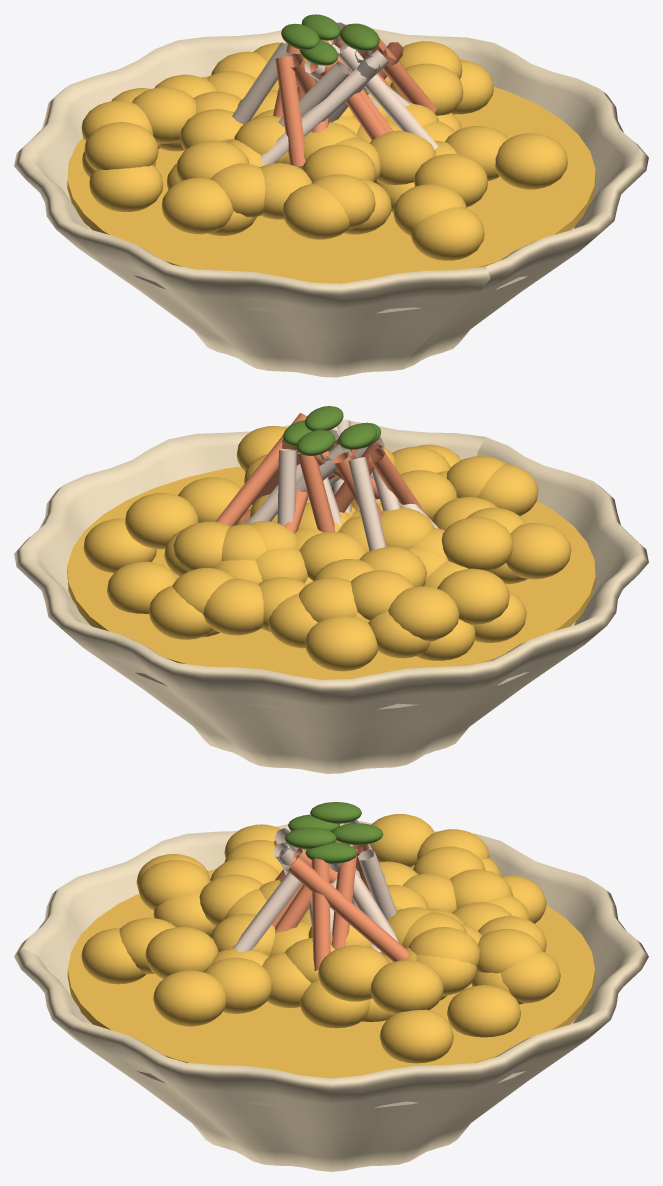
The model's file is 14-crab-rice.glb.
3 renders of one model, top to bottom at view 1: azimuth 30°, elevation 25°; view 2: azimuth 150°, elevation 25°; view 3: azimuth 270°, elevation 25°, orthographic.
Parts seen in each view (by area): view 1: 게살 달걀 덮밥; view 2: 게살 달걀 덮밥; view 3: 게살 달걀 덮밥.
Part boxes in pixels (bbox=[...]): 게살 달걀 덮밥: bbox=[14, 14, 648, 377]; 게살 달걀 덮밥: bbox=[14, 406, 648, 773]; 게살 달걀 덮밥: bbox=[14, 802, 648, 1171].
Size of the model in its own units: 1.71 by 0.871 by 1.71.
